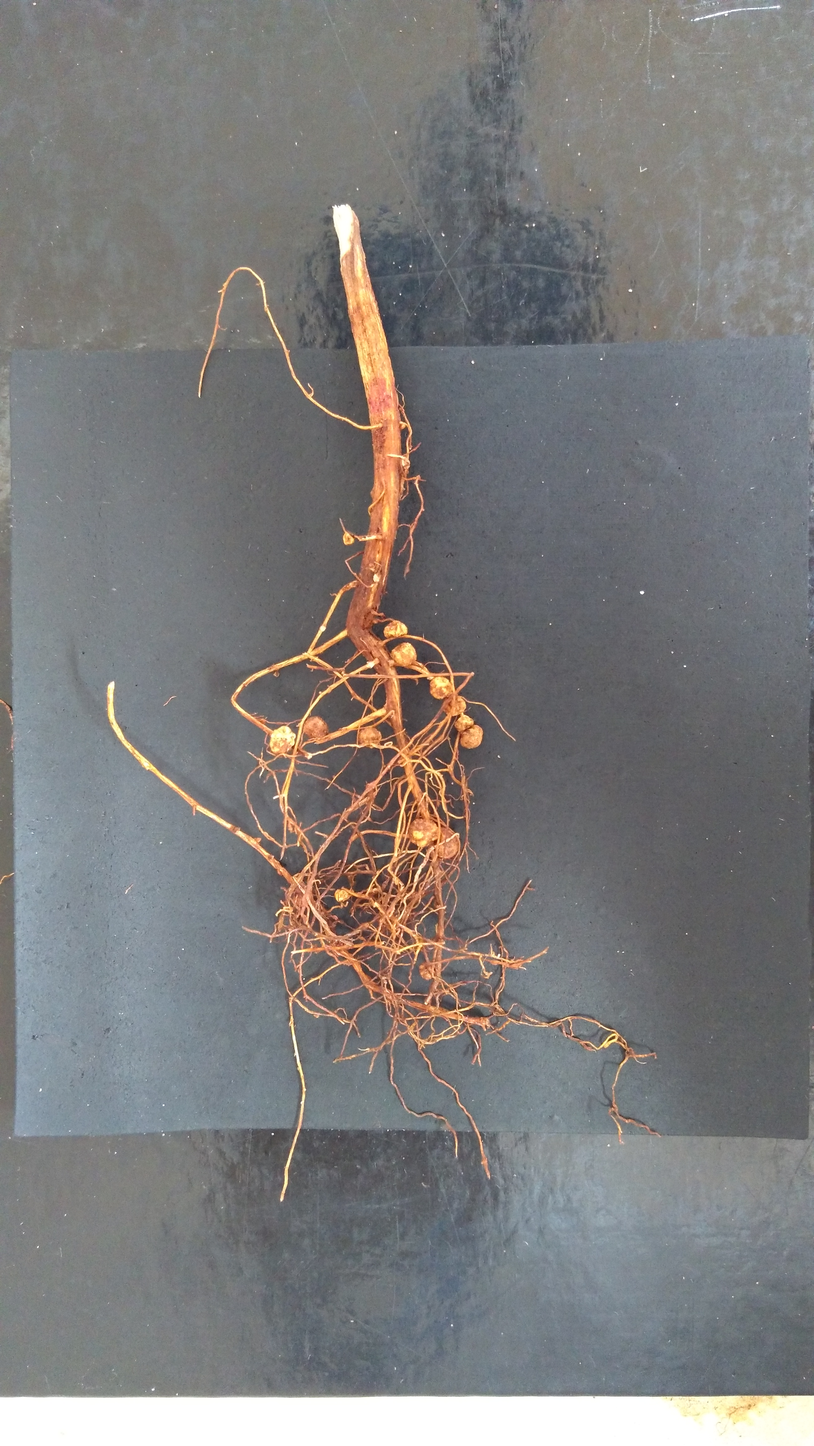nodule: (408, 817, 439, 849), (268, 723, 297, 755), (437, 824, 461, 861), (387, 641, 417, 668), (458, 723, 485, 750), (301, 715, 329, 741), (429, 674, 454, 701), (355, 727, 383, 749), (441, 696, 467, 717), (382, 619, 409, 638), (452, 714, 474, 732), (418, 962, 436, 982), (333, 887, 355, 903), (342, 531, 355, 546), (401, 457, 410, 469), (372, 573, 380, 583), (272, 671, 280, 678), (400, 423, 406, 430)
